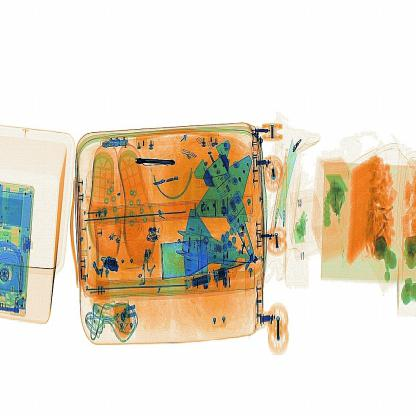knife: (130, 147, 186, 180)
